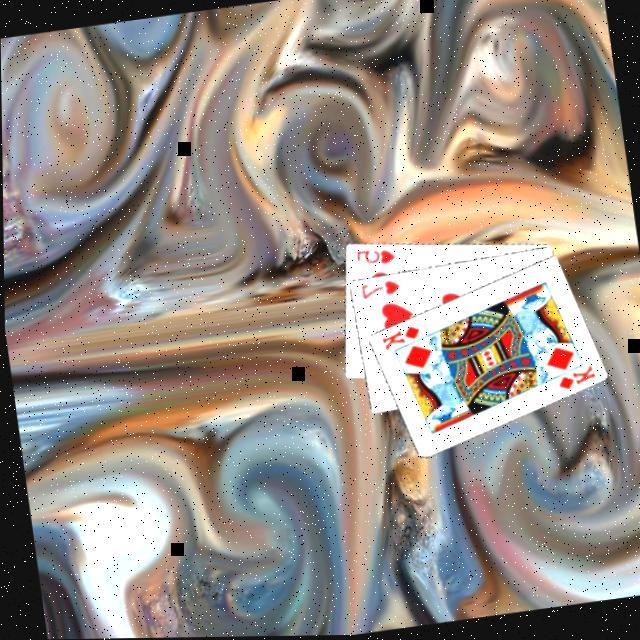5H: (351, 241, 397, 269)
7H: (357, 274, 402, 300)
KD: (376, 320, 423, 354), (552, 360, 598, 393)
